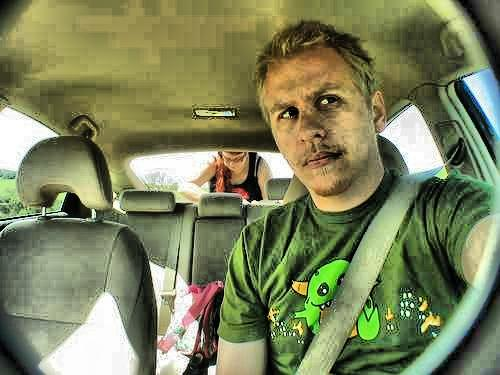seatbelt: (286, 139, 477, 359)
